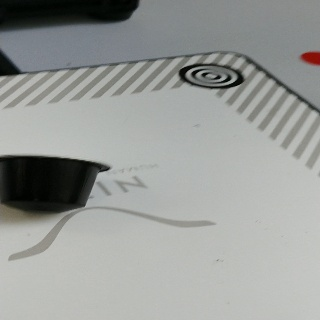capsule_10: (1, 153, 112, 214)
